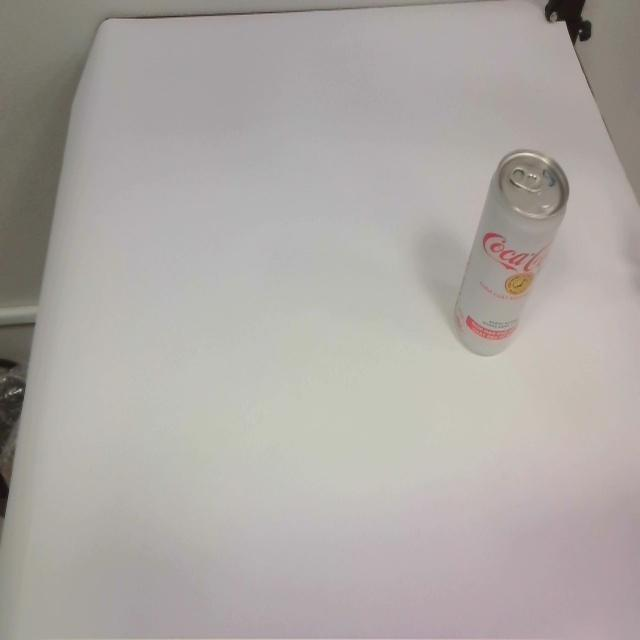debris: (453, 148, 571, 357)
